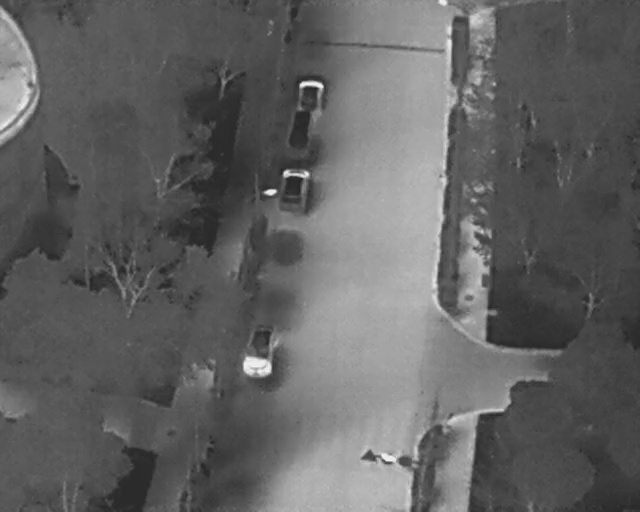Car: (274, 165, 314, 218), (241, 323, 278, 379), (285, 107, 315, 154), (294, 76, 327, 118)
